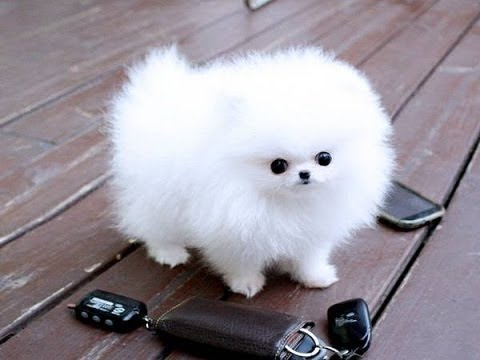pomeranian: (107, 41, 386, 305)
